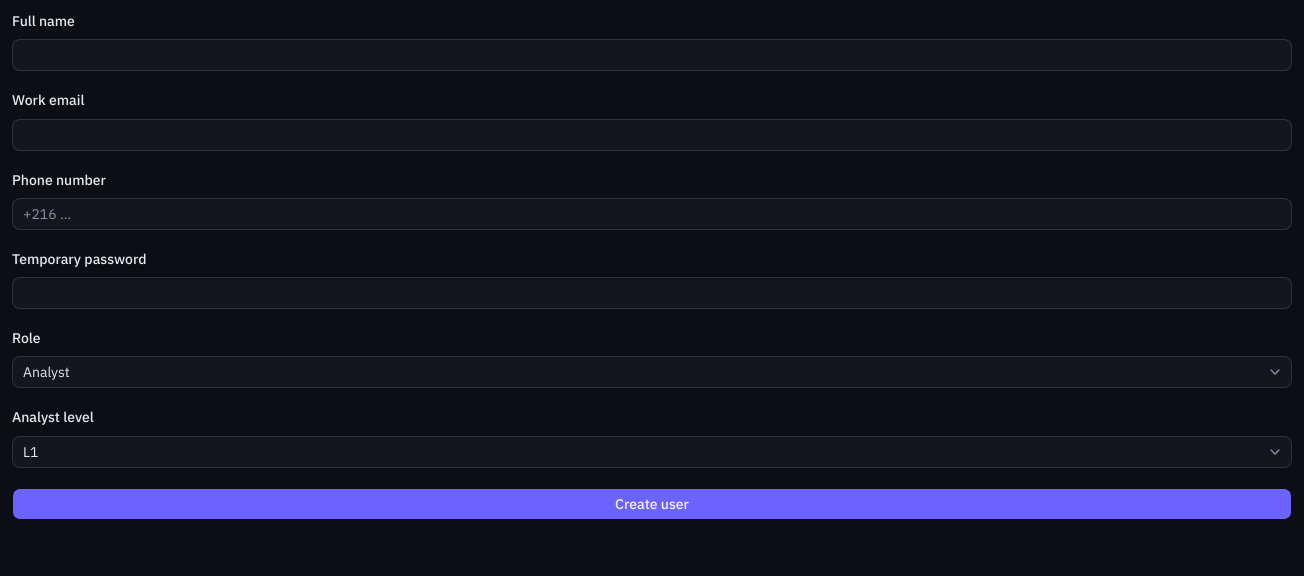
Test: CreateUserForm › shows the backend's error message on failure without refreshing
Step 1. Type "Ahmed Trabelsi" into the field labelled "Full name" → (652, 55), box [12,39,1292,71]
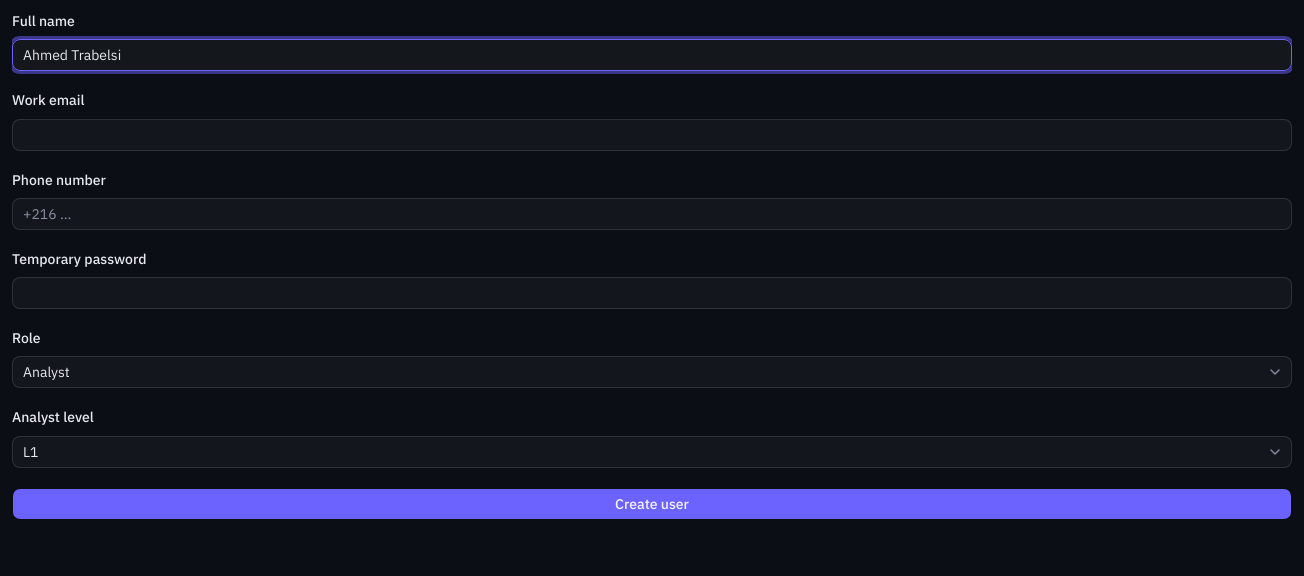
Step 2. Type "ahmed@meridian.test" into the field labelled "Work email" → (652, 134), box [12,118,1292,150]
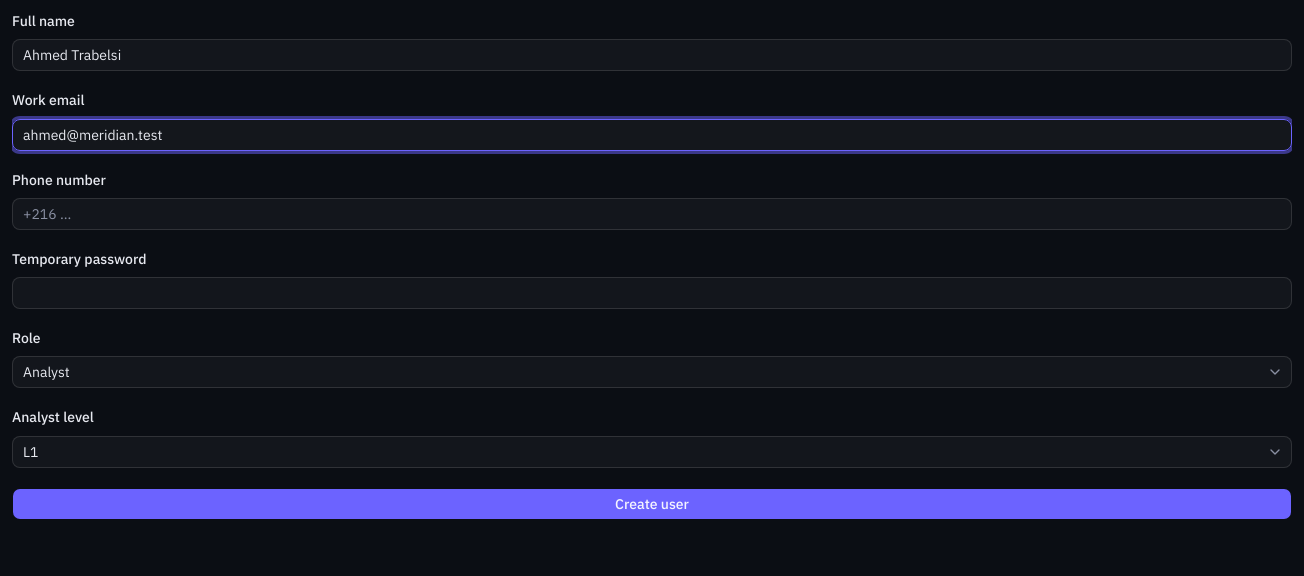
Step 3. Type "+21620000010" into the field labelled "Phone number" → (652, 214), box [12,198,1292,230]
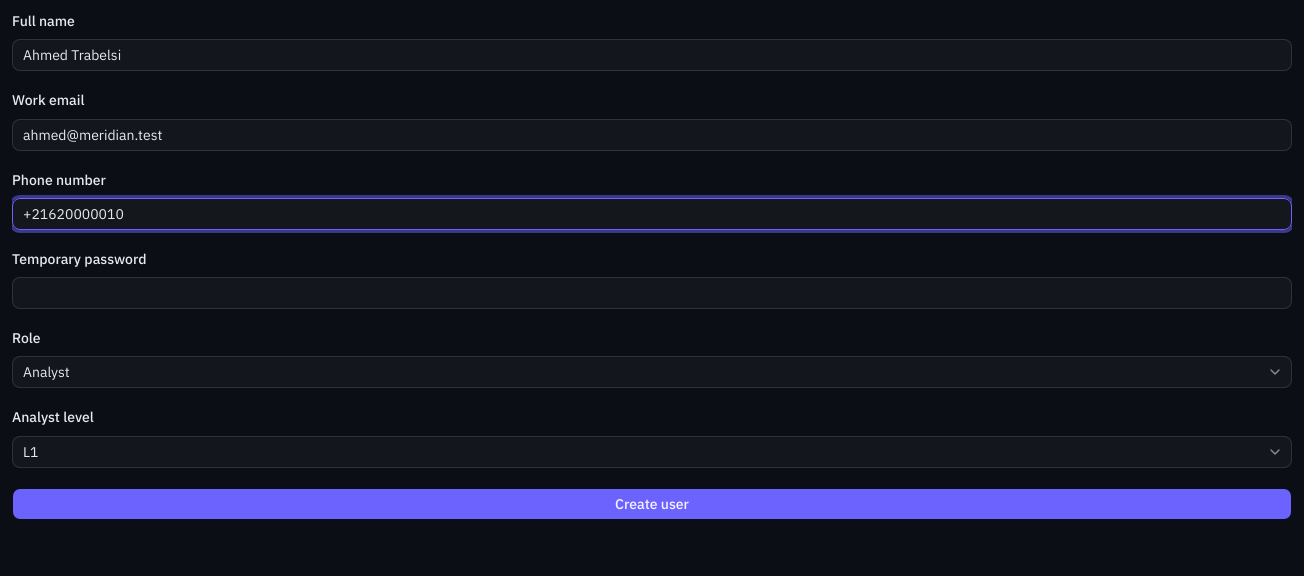
Step 4. Type "Tempo456!" into the password field labelled "Temporary password" → (652, 293), box [12,277,1292,309]
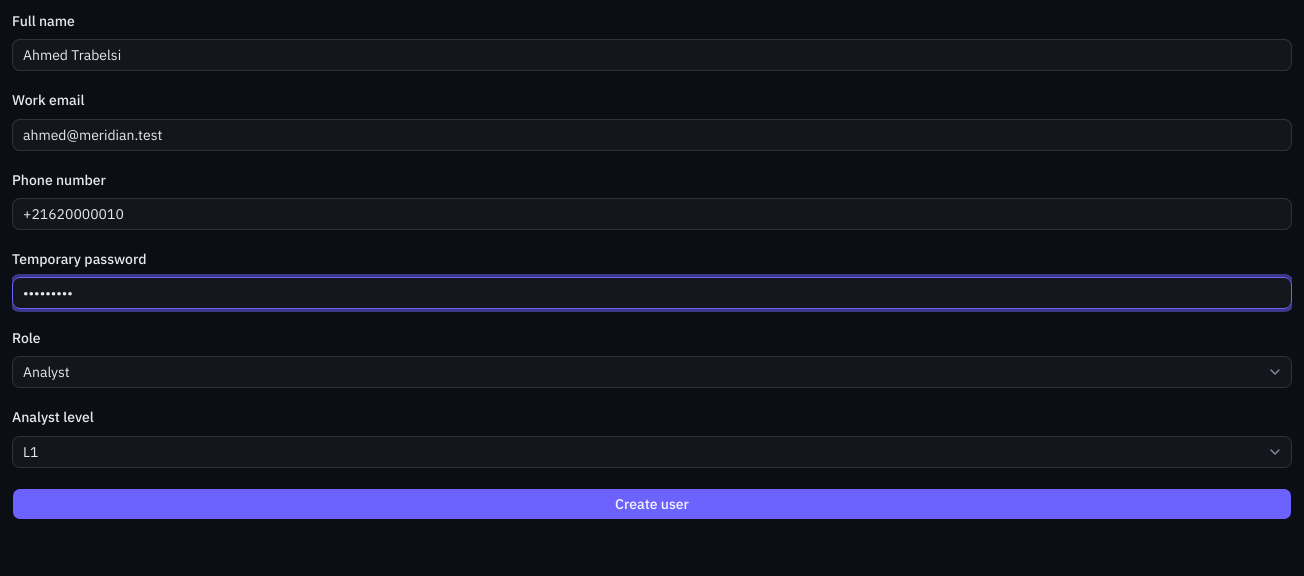
Step 5. Click the button "Create user" → click(652, 504), box [12,488,1292,520]
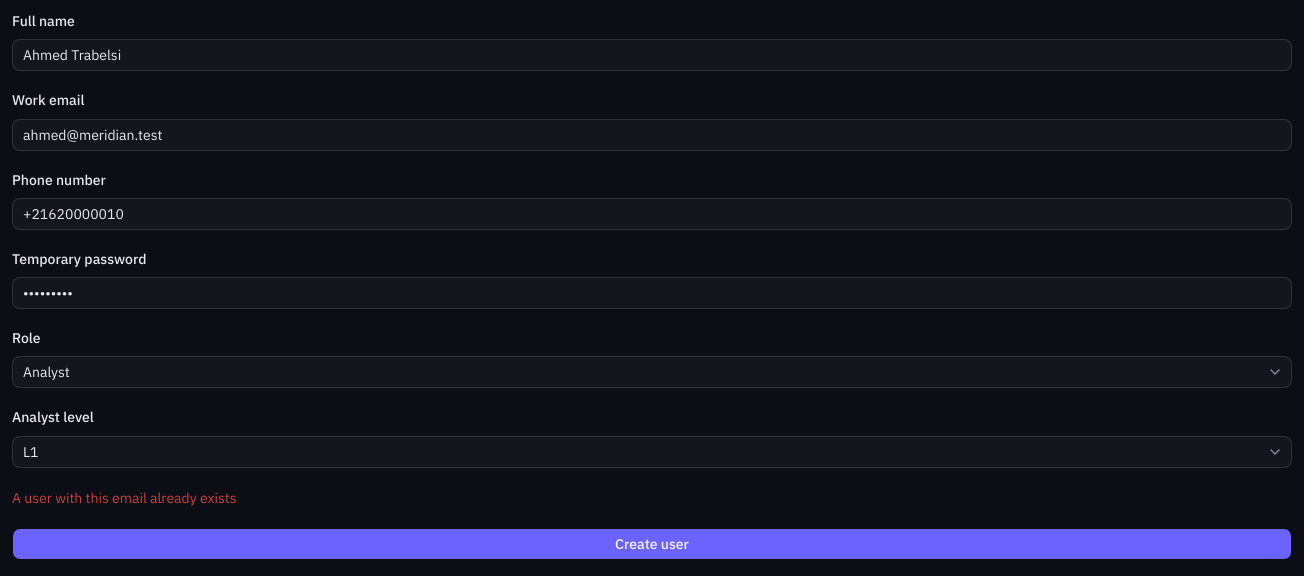
Expected: the text "A user with this email already exists" is shown, [12,488,237,506]
